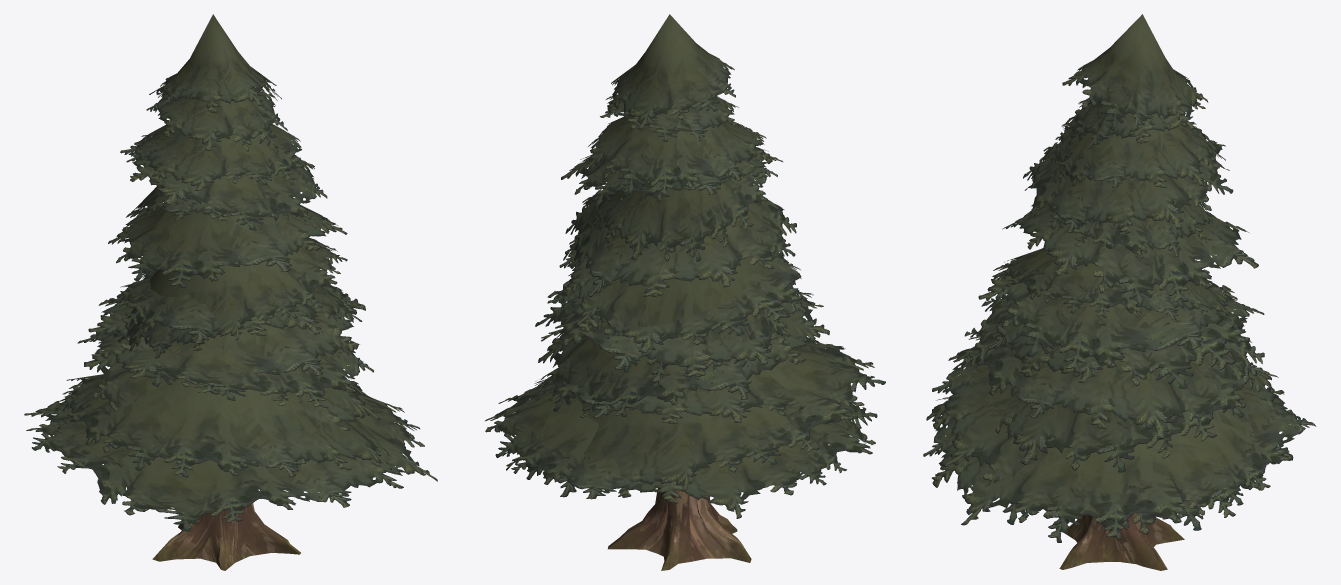
3 views of the same model, side by side, from view 1: azimuth 30°, elevation 25°; view 2: azimuth 150°, elevation 25°; view 3: azimuth 270°, elevation 25° (orthographic). The views are drawn at different scales.
Visible parts, largest first — view 1: body0_model0_lod0_mesh0; view 2: body0_model0_lod0_mesh0; view 3: body0_model0_lod0_mesh0.
Boxes of the visible parts, x1=… form: body0_model0_lod0_mesh0: x1=24, y1=14, x2=437, y2=570; body0_model0_lod0_mesh0: x1=485, y1=14, x2=885, y2=570; body0_model0_lod0_mesh0: x1=923, y1=14, x2=1316, y2=570.
Size of the model in its own units: 395 by 563 by 391.
Materials: 1 (1 with a texture image).
